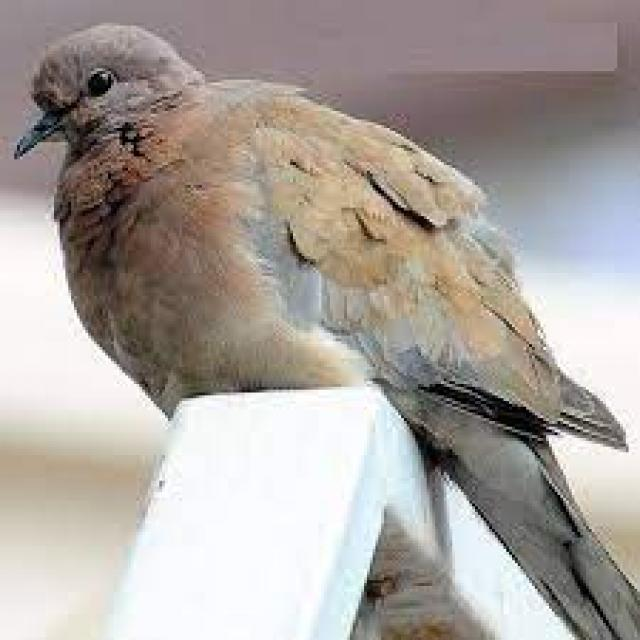bird: (12, 20, 640, 640)
